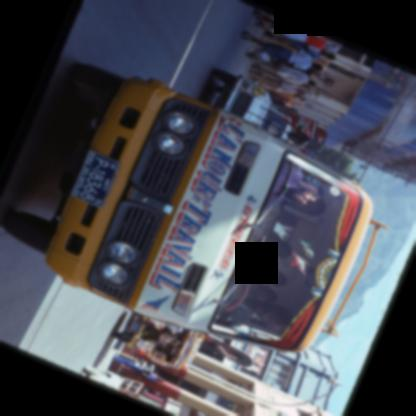handbag: (263, 29, 281, 40)
